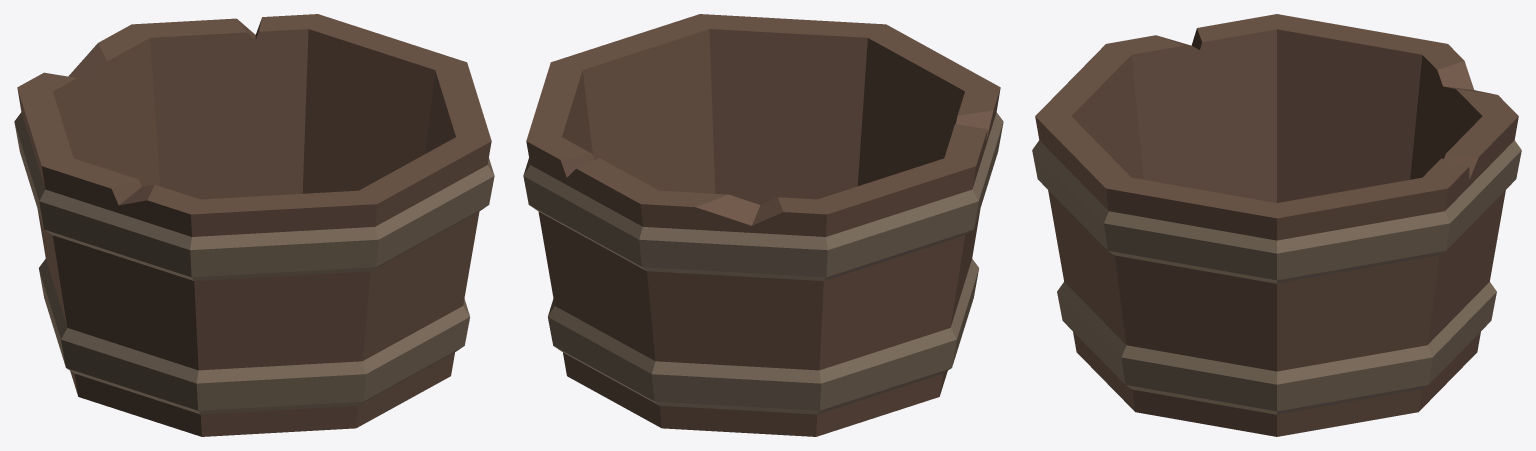
File: Bucket.fbx
The picture shows the model from 3 angles, left to right: view 1: azimuth 30°, elevation 25°; view 2: azimuth 150°, elevation 25°; view 3: azimuth 270°, elevation 25°; orthographic projection.
Visible parts, largest first — view 1: Bucket; view 2: Bucket; view 3: Bucket.
Boxes of the visible parts, <box> form: Bucket: <box>14,14,494,436</box>; Bucket: <box>523,14,1003,436</box>; Bucket: <box>1032,14,1521,436</box>.
Size of the model in its own units: 0.4544 by 0.4544 by 0.2417.
